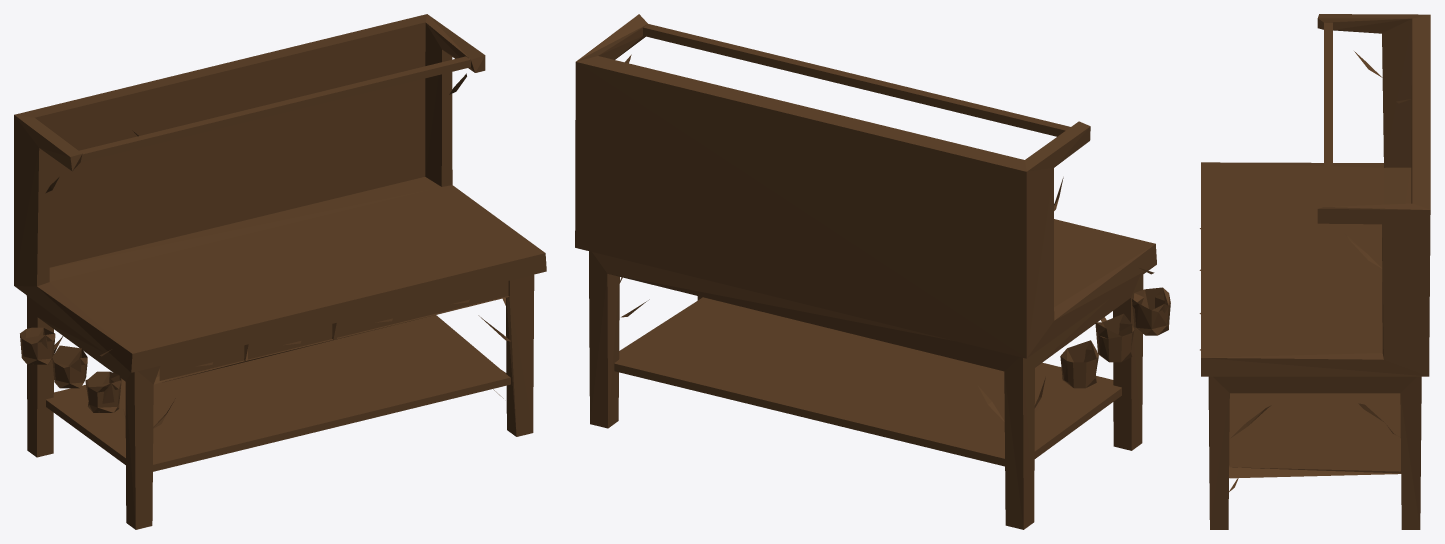
Rendered from smith-workbench.lod1.glb.
3 renders of one model, left to right at view 1: azimuth 30°, elevation 25°; view 2: azimuth 150°, elevation 25°; view 3: azimuth 270°, elevation 25°, orthographic. The views are drawn at different scales.
Parts seen in each view (by area): view 1: Workbench_Workbench_0; view 2: Workbench_Workbench_0; view 3: Workbench_Workbench_0.
Part boxes in pixels (x1,y1,x2,y2): Workbench_Workbench_0: (14,14,546,529); Workbench_Workbench_0: (575,14,1170,529); Workbench_Workbench_0: (1199,14,1430,529).
Size of the model in its own units: 2.7 by 1.95 by 1.26.
